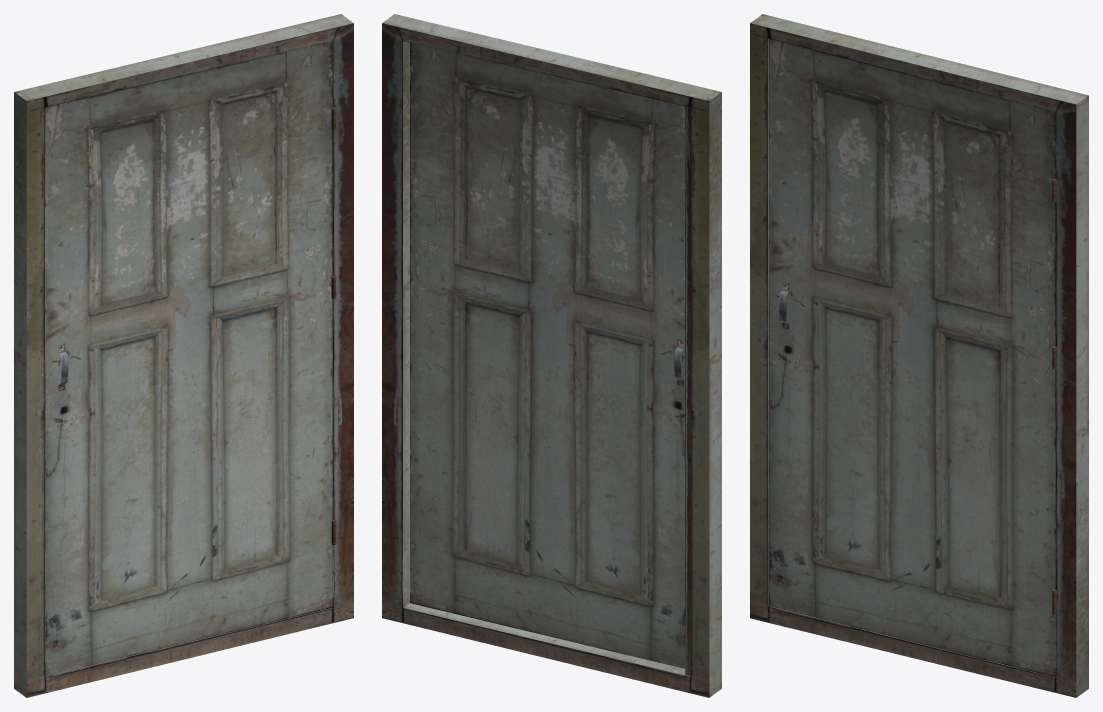
The model's file is Door_03.FBX.
3 renders of one model, left to right at view 1: azimuth 30°, elevation 25°; view 2: azimuth 150°, elevation 25°; view 3: azimuth 330°, elevation 25°, orthographic.
Parts seen in each view (by area): view 1: Door_03, Door_03_Frame; view 2: Door_03, Door_03_Frame; view 3: Door_03, Door_03_Frame.
Boxes of the visible parts, <box> form: Door_03: <box>45,41,336,676</box>; Door_03_Frame: <box>14,14,353,697</box>; Door_03: <box>410,43,685,668</box>; Door_03_Frame: <box>382,14,721,697</box>; Door_03: <box>769,39,1056,677</box>; Door_03_Frame: <box>750,14,1088,697</box>.
Size of the model in its own units: 131 by 10.62 by 228.
